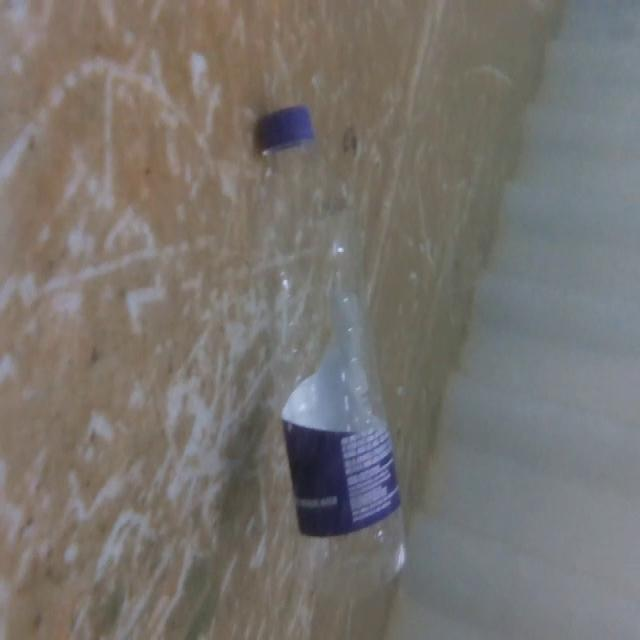plastic bottle: (245, 100, 420, 614)
